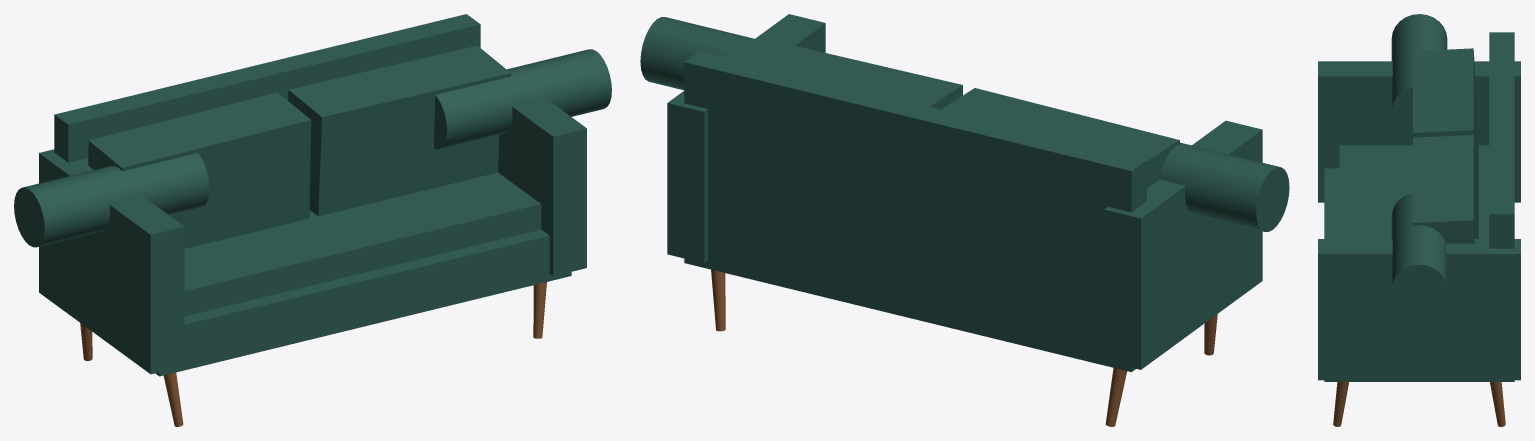
The model's file is sofa.glb.
3 renders of one model, left to right at view 1: azimuth 30°, elevation 25°; view 2: azimuth 150°, elevation 25°; view 3: azimuth 270°, elevation 25°, orthographic. The views are drawn at different scales.
Parts seen in each view (by area): view 1: SeatCushion, BackCushionR, Frame, BackCushionL, ArmrestL, BackPanel, ArmrestR, BolsterL, BolsterR, Leg3, Leg2; view 2: BackPanel, ArmrestL, Frame, ArmrestR, BolsterL, BackCushionL, BackCushionR, BolsterR, Leg1, Leg0; view 3: ArmrestR, ArmrestL, SeatCushion, BackCushionR, BackCushionL, BackPanel, BolsterR, BolsterL, Frame, Leg1, Leg3.
Boxes of the visible parts, x1=… form: SeatCushion: x1=184, y1=172, x2=541, y2=316; BackCushionR: x1=288, y1=45, x2=510, y2=216; Frame: x1=155, y1=229, x2=571, y2=376; BackCushionL: x1=88, y1=92, x2=311, y2=248; ArmrestL: x1=39, y1=149, x2=184, y2=374; BackPanel: x1=54, y1=14, x2=480, y2=162; ArmrestR: x1=498, y1=98, x2=586, y2=276; BolsterL: x1=14, y1=153, x2=209, y2=247; BolsterR: x1=433, y1=49, x2=611, y2=149; Leg3: x1=533, y1=282, x2=546, y2=338; Leg2: x1=163, y1=372, x2=183, y2=426; BackPanel: x1=684, y1=51, x2=1146, y2=315; ArmrestL: x1=1104, y1=120, x2=1262, y2=369; Frame: x1=684, y1=219, x2=1135, y2=371; ArmrestR: x1=667, y1=14, x2=825, y2=263; BolsterL: x1=1160, y1=142, x2=1289, y2=231; BackCushionL: x1=941, y1=88, x2=1179, y2=188; BackCushionR: x1=726, y1=37, x2=962, y2=109; BolsterR: x1=640, y1=17, x2=754, y2=90; Leg1: x1=711, y1=269, x2=725, y2=331; Leg0: x1=1105, y1=368, x2=1127, y2=426; ArmrestR: x1=1318, y1=239, x2=1520, y2=380; ArmrestL: x1=1318, y1=61, x2=1520, y2=202; SeatCushion: x1=1339, y1=145, x2=1489, y2=238; BackCushionR: x1=1413, y1=135, x2=1478, y2=243; BackCushionL: x1=1413, y1=48, x2=1478, y2=222; BackPanel: x1=1489, y1=32, x2=1514, y2=248; BolsterR: x1=1391, y1=192, x2=1447, y2=315; BolsterL: x1=1391, y1=14, x2=1447, y2=136; Frame: x1=1324, y1=168, x2=1514, y2=381; Leg1: x1=1490, y1=382, x2=1505, y2=426; Leg3: x1=1333, y1=382, x2=1348, y2=426.
Bounding box in the file's own units: 2.34 × 0.9702 × 0.8.
